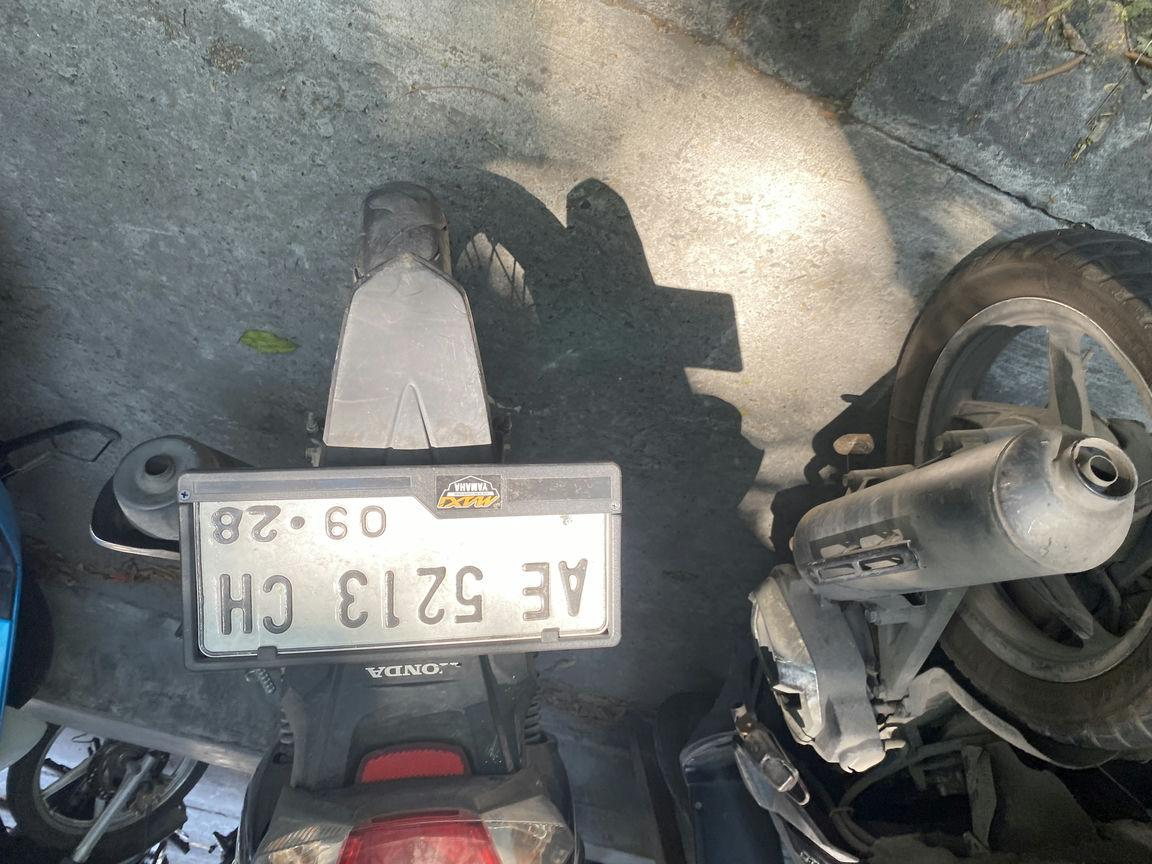plat: (545, 209, 957, 382)
